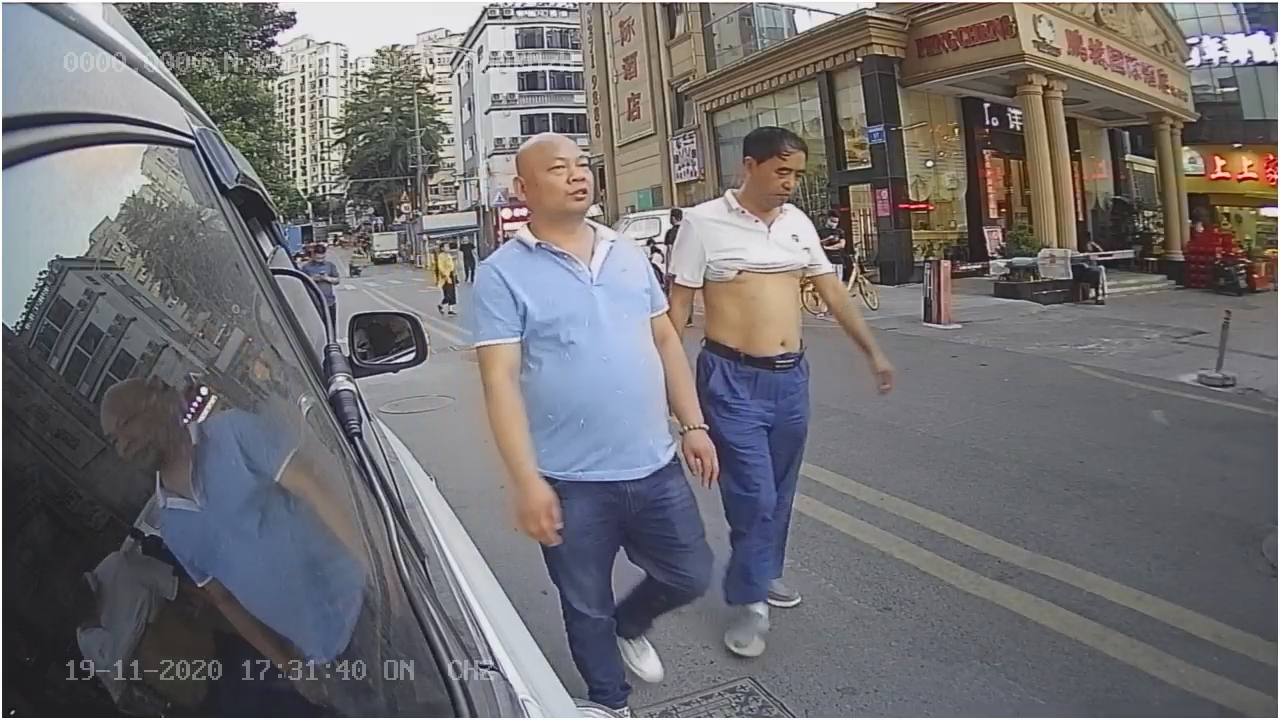person: (461, 118, 681, 509), (690, 121, 876, 451)
